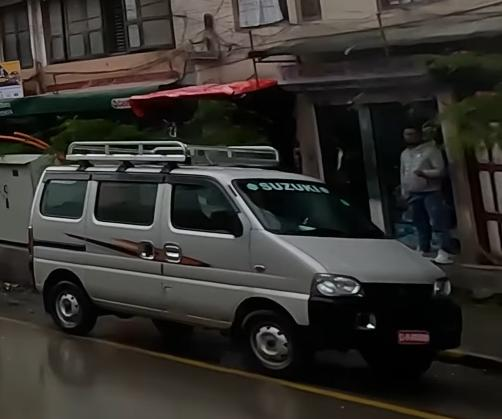van: (22, 130, 468, 383)
